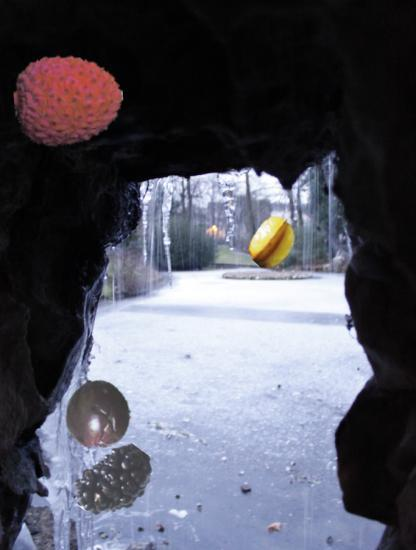Carambula: (246, 215, 300, 269)
Lychee: (14, 46, 124, 156)
Mulberry: (73, 440, 156, 523)
Passion: (63, 380, 133, 450)
